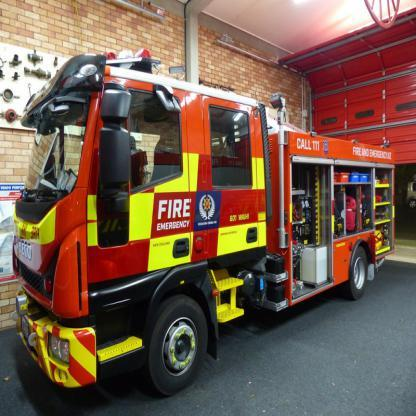fire-truck: (0, 38, 416, 416)
